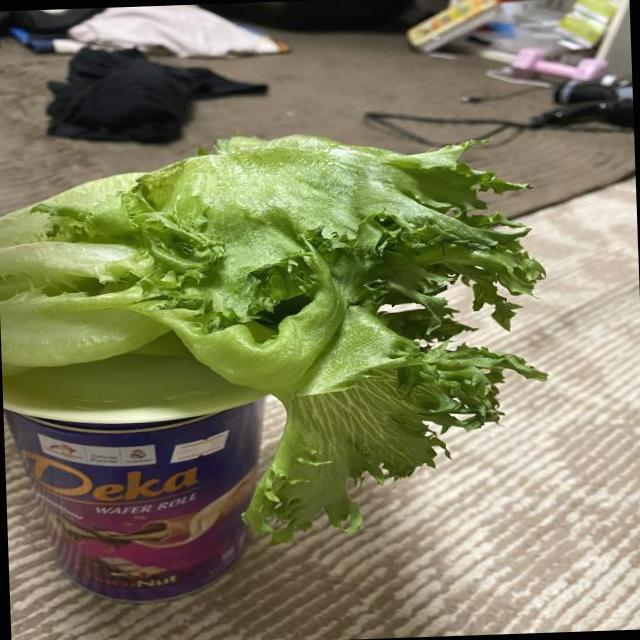Lettuce-Ready-to-Harvest: (0, 135, 543, 540)
